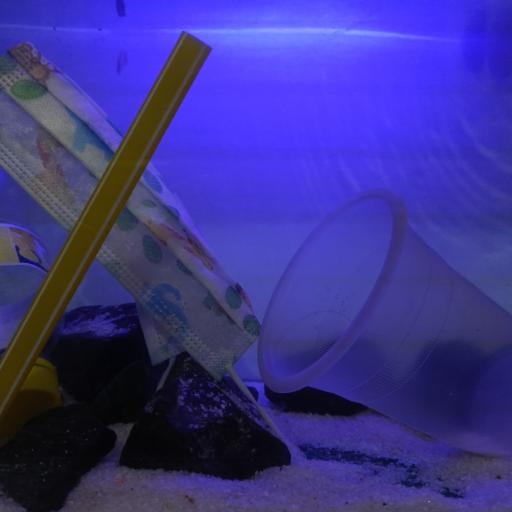bottle_cap: (9, 369, 61, 415)
mask: (0, 36, 264, 382)
plastic_bottle: (0, 178, 71, 417)
plastic_cup: (259, 187, 512, 460)
plastic_straw: (0, 28, 216, 424)
